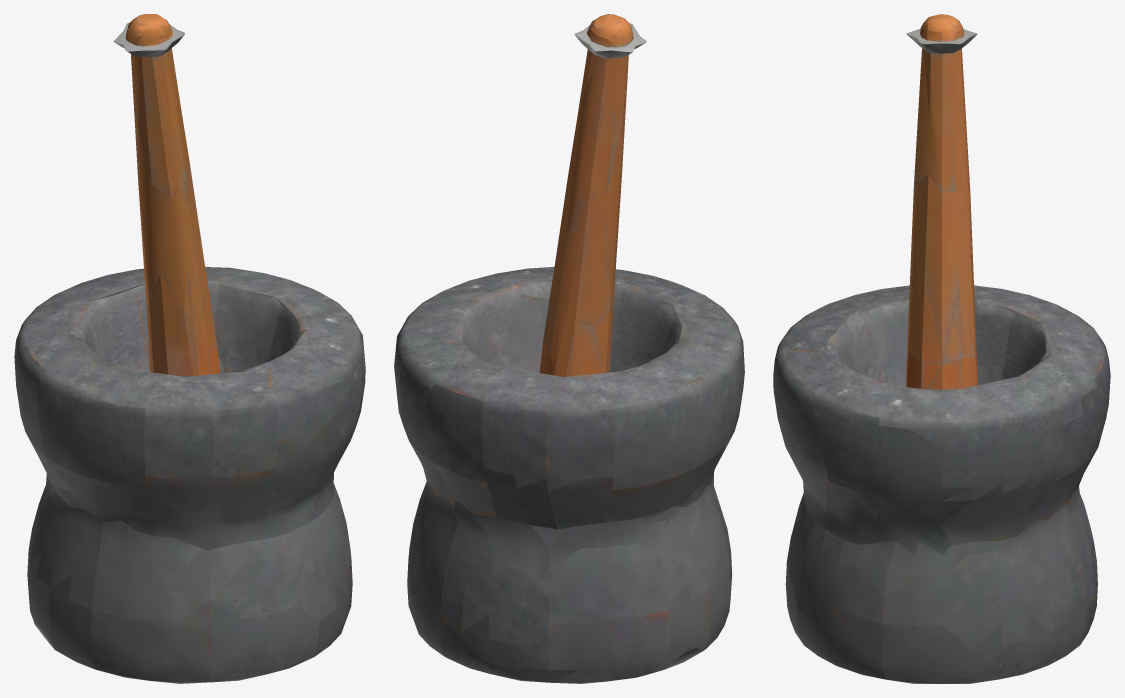
File: ural.glb
The picture shows the model from 3 angles, left to right: view 1: azimuth 30°, elevation 25°; view 2: azimuth 150°, elevation 25°; view 3: azimuth 270°, elevation 25°; orthographic projection. The views are drawn at different scales.
Size of the model in its own units: 0.9822 by 1.9 by 0.9824.
Materials: 1 (1 with a texture image).
